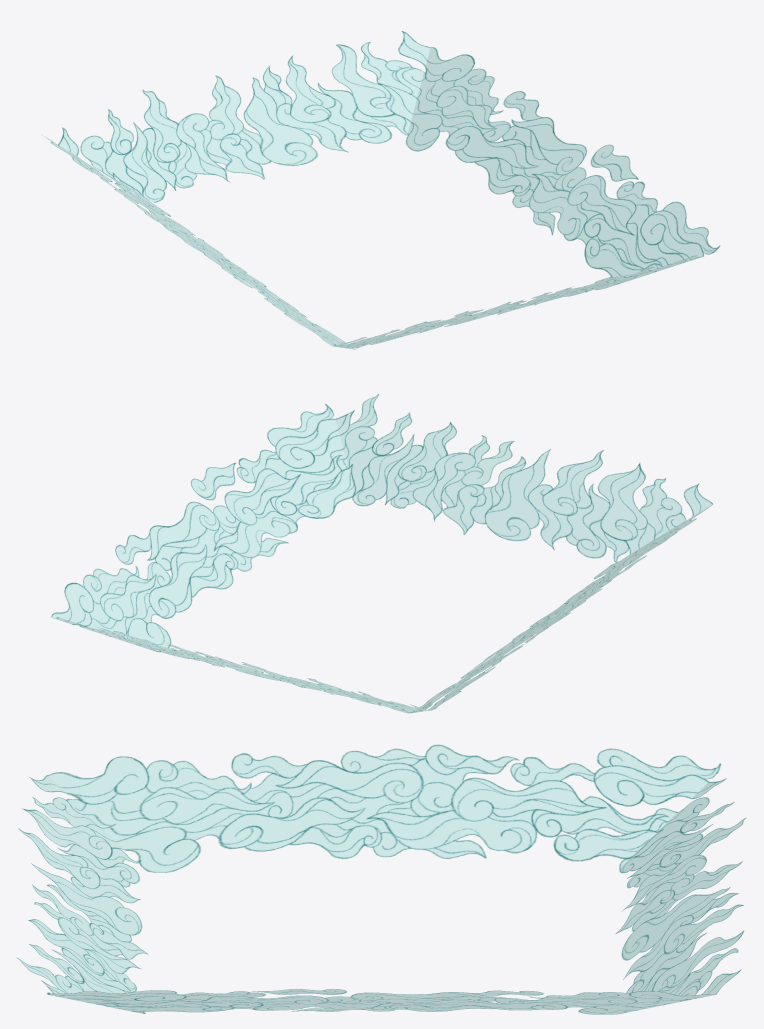
Rendered from clouds.glb.
3 renders of one model, top to bottom at view 1: azimuth 30°, elevation 25°; view 2: azimuth 150°, elevation 25°; view 3: azimuth 270°, elevation 25°, orthographic. The views are drawn at different scales.
Parts seen in each view (by area): view 1: Plane.001; view 2: Plane.001; view 3: Plane.001.
Boxes of the visible parts, box(x1,y1,x2,y2) form: Plane.001: box(44, 31, 719, 349); Plane.001: box(51, 394, 712, 713); Plane.001: box(17, 744, 745, 1014).
Size of the model in its own units: 8.7 by 1.31 by 11.
Materials: 1 (1 with a texture image).
